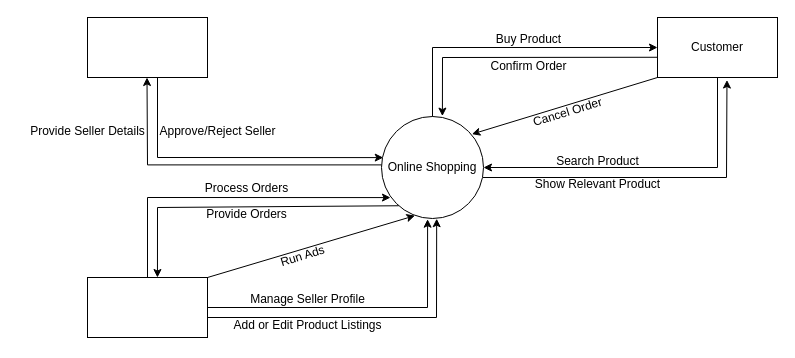
The diagram is 795 pixels wide and 358 high, and some of its shapes have lost their labels. Here are the shapes that lost their labels. From the top down, the centre of each, then its label:
At point (147, 47): "Admin".
At point (147, 307): "Seller".
